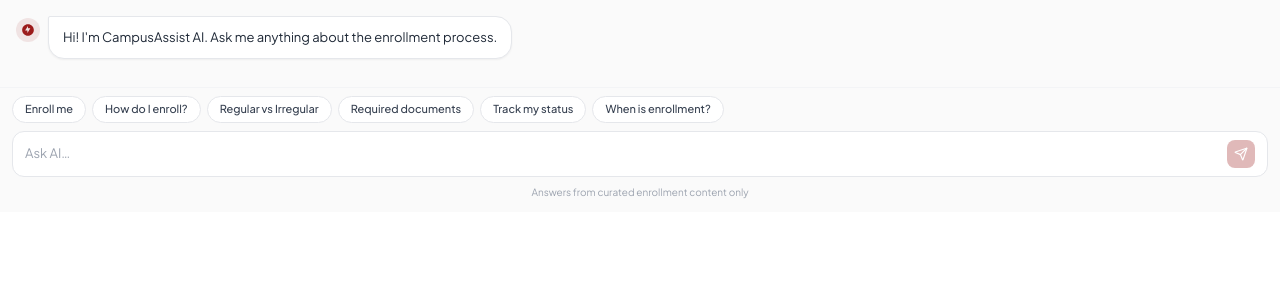
Scenario: ChatWindow — normal chat (wizard inactive) › hides chips and shows a user message after sending text
In the field with placeholder "Ask AI…": [622, 154] box [25, 144, 1219, 163], type "When does enrollment open?"
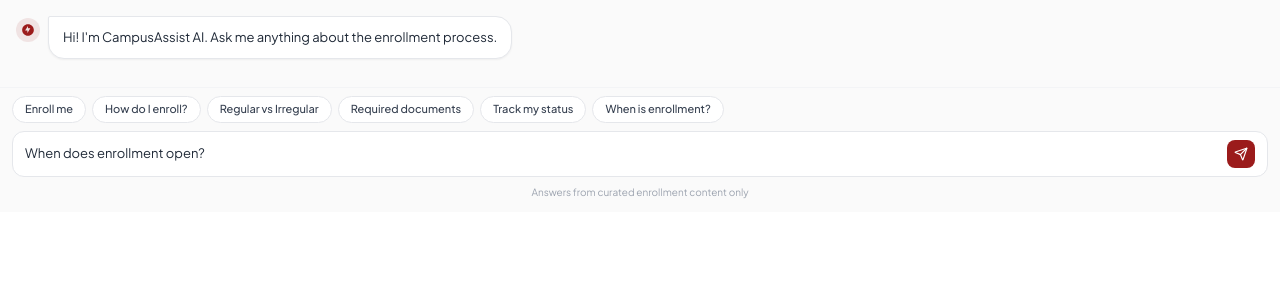
Press Enter in the field with placeholder "Ask AI…", box [25, 144, 1219, 163]
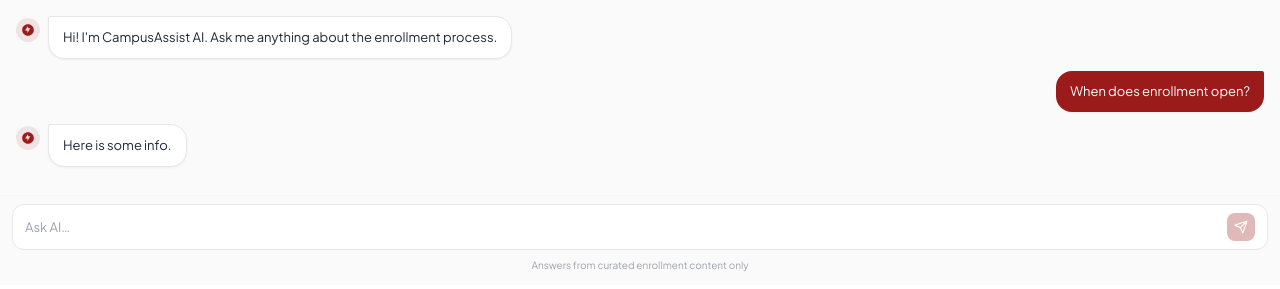
Check: the button "Enroll me" is gone
Check: the text "When does enrollment open?" is shown, box [1056, 71, 1264, 112]
